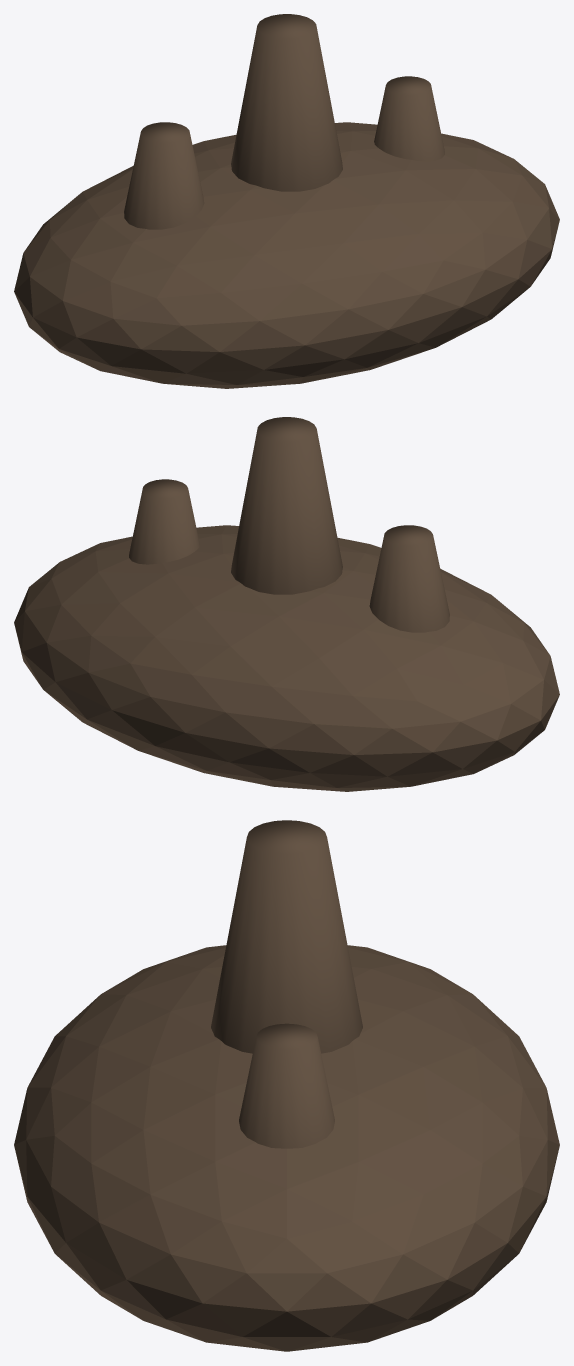
Rendered from Prop_MudCastle_Hybrid.glb.
The picture shows the model from 3 angles, top to bottom: view 1: azimuth 30°, elevation 25°; view 2: azimuth 150°, elevation 25°; view 3: azimuth 270°, elevation 25°; orthographic projection. The views are drawn at different scales.
Parts seen in each view (by area): view 1: Icosphere, Cone.001, Cone, Cone.002; view 2: Icosphere, Cone.001, Cone, Cone.002; view 3: Icosphere, Cone.001, Cone.002.
Part boxes in pixels (<box>): Icosphere: <box>14,122,559,388</box>; Cone.001: <box>231,14,342,191</box>; Cone: <box>124,122,204,229</box>; Cone.002: <box>374,76,444,161</box>; Icosphere: <box>14,525,559,791</box>; Cone.001: <box>231,417,342,594</box>; Cone: <box>369,525,449,632</box>; Cone.002: <box>129,479,199,564</box>; Icosphere: <box>14,945,559,1351</box>; Cone.001: <box>211,820,362,1053</box>; Cone.002: <box>239,1023,334,1148</box>.
Bounding box in the file's own units: 1.17 × 0.7065 × 0.81.
